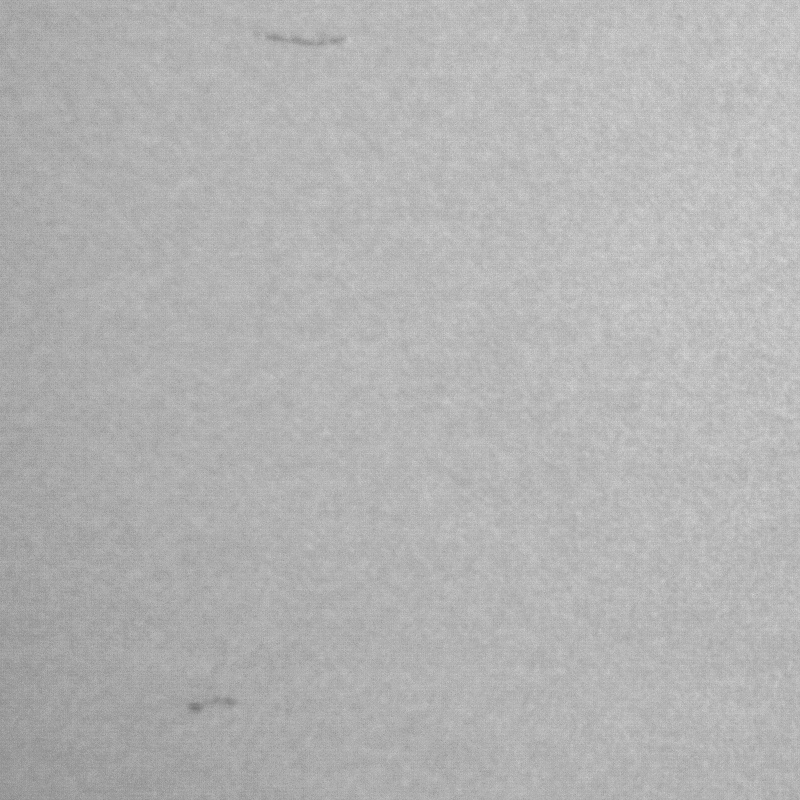defect: (264, 30, 356, 48), (187, 697, 249, 714)
